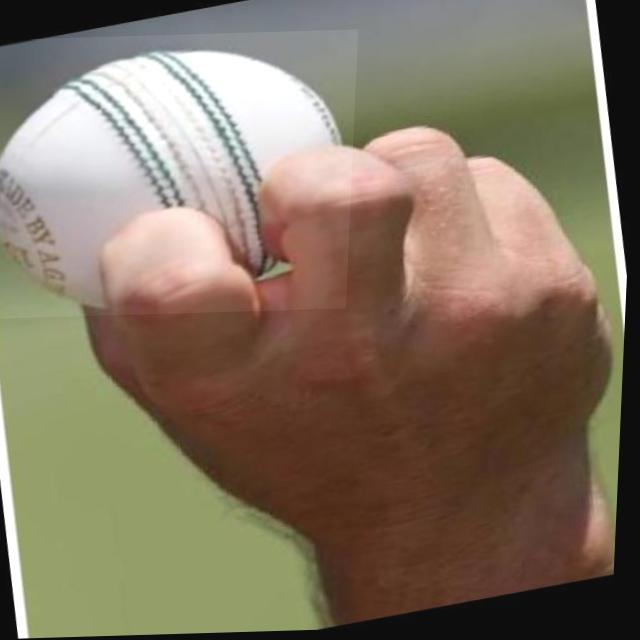-: (0, 32, 359, 319)
